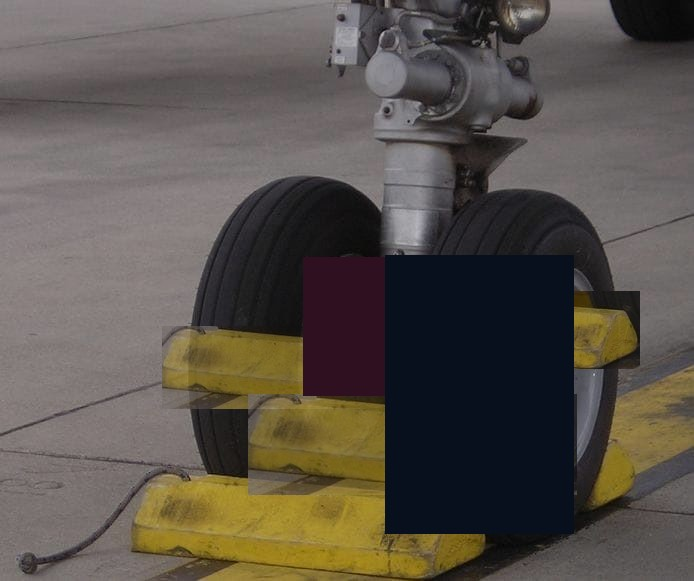chock: (134, 471, 489, 581), (248, 394, 577, 495), (162, 326, 431, 409), (386, 291, 640, 369)
wheel: (414, 189, 620, 545), (186, 175, 397, 488), (609, 0, 690, 40)
